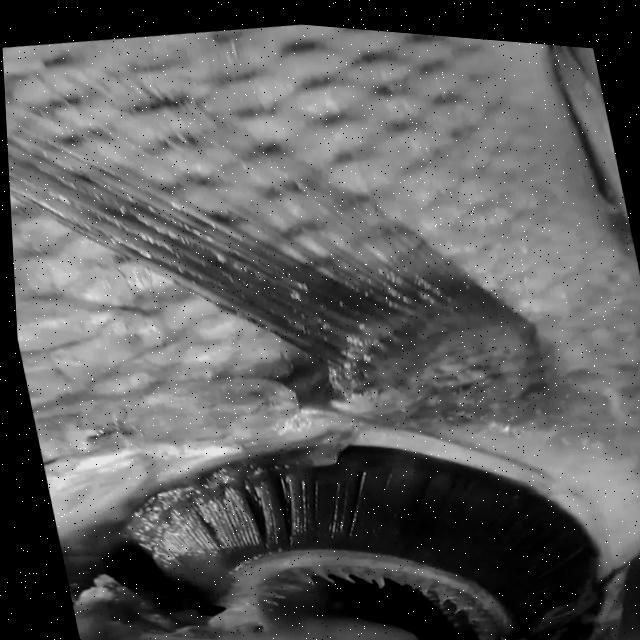Non-Fresh: (104, 362, 620, 640)
